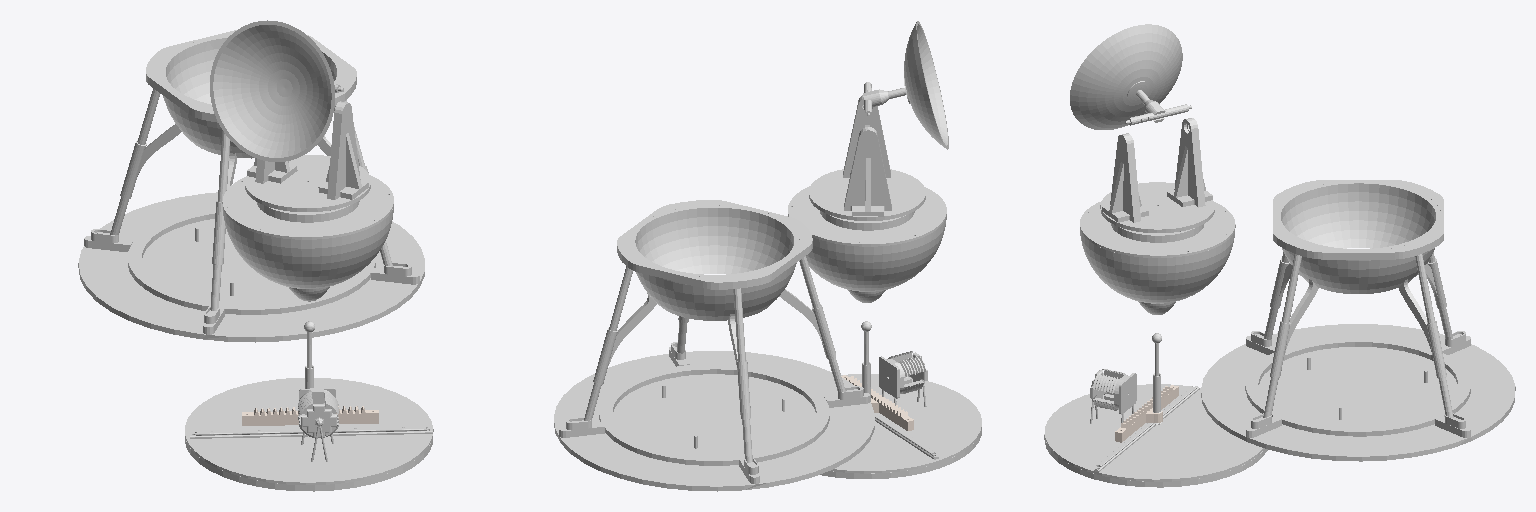
URDF robot description (1Total_Montaj.SLDASM):
<?xml version="1.0"?>
<!-- This URDF was automatically created by SolidWorks to URDF Exporter! Originally created by Stephen Brawner (brawner@gmail.com) 
     Commit Version: 1.6.0-4-g7f85cfe  Build Version: 1.6.7995.38578
     For more information, please see http://wiki.ros.org/sw_urdf_exporter -->
<robot
  name="1Total_Montaj.SLDASM">
  <link
    name="base_link">
    <inertial>
      <origin
        xyz="-0.384263432856868 -0.520576176427058 1.37139420875783"
        rpy="0 0 0" />
      <mass
        value="5.14385108561683" />
      <inertia
        ixx="0.0961611603907227"
        ixy="-0.00105476592593228"
        ixz="0.00121747728528588"
        iyy="0.182876997699365"
        iyz="0.00105477375679961"
        izz="0.0961611342193083" />
    </inertial>
    <visual>
      <origin
        xyz="0 0 0"
        rpy="0 0 0" />
      <geometry>
        <mesh scale="0.78 0.78 0.78"
        filename="model://stewart/meshes/base_link.STL" />
      </geometry>
      <material
        name="">
        <color
          rgba="0.894117647058823 0.894117647058823 0.894117647058823 1" />
      </material>
    </visual>
    <collision>
      <origin
        xyz="0 0 0"
        rpy="0 0 0" />
      <geometry>
        <mesh scale="0.78 0.78 0.78"
        filename="model://stewart/meshes/base_link.STL" />
      </geometry>
    </collision>
  </link>
  <link
    name="alt_planet_link">
    <inertial>
      <origin
        xyz="0.00302862492426265 0.00855094740142293 0.00988938605803313"
        rpy="0 0 0" />
      <mass
        value="1.10295847817781" />
      <inertia
        ixx="0.013834423479749"
        ixy="5.45522156423911E-05"
        ixz="-6.08606975317606E-07"
        iyy="0.0139127881607208"
        iyz="-9.35442145927238E-07"
        izz="0.0276482934977614" />
    </inertial>
    <visual>
      <origin
        xyz="0 0 0"
        rpy="0 0 0" />
      <geometry>
        <mesh scale="0.78 0.78 0.78"
        filename="model://stewart/meshes/alt_planet_link.STL" />
      </geometry>
      <material
        name="">
        <color
          rgba="0.894117647058823 0.894117647058823 0.894117647058823 1" />
      </material>
    </visual>
    <collision>
      <origin
        xyz="0 0 0"
        rpy="0 0 0" />
      <geometry>
        <mesh scale="0.78 0.78 0.78"
        filename="model://stewart/meshes/alt_planet_link.STL" />
      </geometry>
    </collision>
  </link>
  <joint
    name="alt_planet"
    type="continuous">
    <origin
      xyz="-0.38395 -1.3715 -0.59834"
      rpy="0 0 3.1416" />
    <parent
      link="base_link" />
    <child
      link="alt_planet_link" />
    <axis
      xyz="0 0 1" />
    <limit
      effort="100"
      velocity="6.2832" />
  </joint>
  <link
    name="kremayer_link">
    <inertial>
      <origin
        xyz="0.0205768678508176 0.0163139103585974 0.000118061070183917"
        rpy="0 0 0" />
      <mass
        value="0.0925261436980043" />
      <inertia
        ixx="0.000376819711281366"
        ixy="-2.74832149029622E-07"
        ixz="-2.09555353275377E-08"
        iyy="0.000377174040580818"
        iyz="-1.32284629918081E-07"
        izz="9.24395268869694E-06" />
    </inertial>
    <visual>
      <origin
        xyz="0 0 0"
        rpy="0 0 0" />
      <geometry>
        <mesh scale="0.78 0.78 0.78"
        filename="model://stewart/meshes/kremayer_link.STL" />
      </geometry>
      <material
        name="">
        <color
          rgba="1 0.949019607843137 0.909803921568627 1" />
      </material>
    </visual>
    <collision>
      <origin
        xyz="0 0 0"
        rpy="0 0 0" />
      <geometry>
        <mesh scale="0.78 0.78 0.78"
        filename="model://stewart/meshes/kremayer_link.STL" />
      </geometry>
    </collision>
  </link>
  <joint
    name="kremayer"
    type="prismatic">
    <origin
      xyz="-0.00088089 0.00045231 0.02041"
      rpy="1.5708 0 1.0965" />
    <parent
      link="alt_planet_link" />
    <child
      link="kremayer_link" />
    <axis
      xyz="0 0 1" />
    <limit
      lower="-0.1"
      upper="0.1"
      effort="100"
      velocity="0.8" />
  </joint>
  <link
    name="teleskobikcubuk_dis_kisim">
    <inertial>
      <origin
        xyz="-3.17413810946299E-06 0.0504451577310505 -5.73822952054659E-06"
        rpy="0 0 0" />
      <mass
        value="0.00968415710017345" />
      <inertia
        ixx="9.30900935734481E-06"
        ixy="-7.87245830736501E-10"
        ixz="1.168149383609E-10"
        iyy="4.89686992444474E-07"
        iyz="-2.30066439175807E-09"
        izz="9.30914388119832E-06" />
    </inertial>
    <visual>
      <origin
        xyz="0 0 0"
        rpy="0 0 0" />
      <geometry>
        <mesh scale="0.78 0.78 0.78"
        filename="model://stewart/meshes/teleskobikcubuk_dis_kisim.STL" />
      </geometry>
      <material
        name="">
        <color
          rgba="0.894117647058823 0.894117647058823 0.894117647058823 1" />
      </material>
    </visual>
    <collision>
      <origin
        xyz="0 0 0"
        rpy="0 0 0" />
      <geometry>
        <mesh scale="0.78 0.78 0.78"
        filename="model://stewart/meshes/teleskobikcubuk_dis_kisim.STL" />
      </geometry>
    </collision>
  </link>
  <joint
    name="dis_cubuk"
    type="fixed">
    <origin
      xyz="0 0 0"
      rpy="0 0.18022 0" />
    <parent
      link="kremayer_link" />
    <child
      link="teleskobikcubuk_dis_kisim" />
  </joint>
  <link
    name="teleskobik_cubuk_ic_kisim_link">
    <inertial>
      <origin
        xyz="5.55111512312578E-17 -4.44089209850063E-16 0.0108548965975316"
        rpy="0 0 0" />
      <mass
        value="0.00956342409102041" />
      <inertia
        ixx="1.60177638128422E-05"
        ixy="1.70348296901627E-23"
        ixz="2.12386194005695E-20"
        iyy="1.60177638128422E-05"
        iyz="-9.29602764732343E-21"
        izz="2.16425017158159E-07" />
    </inertial>
    <visual>
      <origin
        xyz="0 0 0"
        rpy="0 0 0" />
      <geometry>
        <mesh scale="0.78 0.78 0.78"
        filename="model://stewart/meshes/teleskobik_cubuk_ic_kisim_link.STL" />
      </geometry>
      <material
        name="">
        <color
          rgba="0.894117647058823 0.894117647058823 0.894117647058823 1" />
      </material>
    </visual>
    <collision>
      <origin
        xyz="0 0 0"
        rpy="0 0 0" />
      <geometry>
        <mesh scale="0.78 0.78 0.78"
        filename="model://stewart/meshes/teleskobik_cubuk_ic_kisim_link.STL" />
      </geometry>
    </collision>
  </link>
  <joint
    name="teleskobik_cubuk_ic_kisim"
    type="prismatic">
    <origin
      xyz="0 0.10294 0"
      rpy="-1.5708 -1.2767 0" />
    <parent
      link="teleskobikcubuk_dis_kisim" />
    <child
      link="teleskobik_cubuk_ic_kisim_link" />
    <axis
      xyz="0 0 1" />
    <limit
      lower="0"
      upper="0.02173"
      effort="100"
      velocity="0.8" />
  </joint>
  <link
    name="yarim_kure_link">
    <inertial>
      <origin
        xyz="-0.000641442326537345 -0.0572620187776818 4.04069846480226E-05"
        rpy="0 0 0" />
      <mass
        value="1.97192076149906" />
      <inertia
        ixx="0.0157891764203067"
        ixy="9.82686181796605E-05"
        ixz="1.61826351412035E-08"
        iyy="0.0246214099388652"
        iyz="-5.68628376683597E-06"
        izz="0.0157880547355324" />
    </inertial>
    <visual>
      <origin
        xyz="0 0 0"
        rpy="0 0 0" />
      <geometry>
        <mesh scale="0.78 0.78 0.78"
        filename="model://stewart/meshes/yarim_kure_link.STL" />
      </geometry>
      <material
        name="">
        <color
          rgba="0.894117647058823 0.894117647058823 0.894117647058823 1" />
      </material>
    </visual>
    <collision>
      <origin
        xyz="0 0 0"
        rpy="0 0 0" />
      <geometry>
        <mesh scale="0.78 0.78 0.78"
        filename="model://stewart/meshes/yarim_kure_link.STL" />
      </geometry>
    </collision>
  </link>
  <link name="yarim_kure_pitch_link"/>

<joint name="yarim_kure_pitch" type="revolute">
  <origin xyz="0.001787 -0.00078652 0.22296" rpy="1.5708 0 -0.47429" />
  <parent link="teleskobik_cubuk_ic_kisim_link" />
  <child link="yarim_kure_pitch_link" />
  <axis xyz="0 1 0" />
  <limit lower="-0.5236" upper="0.5236" effort="100" velocity="1.0" />
</joint>

<joint name="yarim_kure_roll" type="revolute">
  <origin xyz="0 0 0" rpy="0 0 0" />
  <parent link="yarim_kure_pitch_link" />
  <child link="yarim_kure_link" />
  <axis xyz="1 0 0" />
  <limit lower="-0.5236" upper="0.5236" effort="100" velocity="1.0" />
</joint>
  <link
    name="ust_planet_link">
    <inertial>
      <origin
        xyz="-1.20817424953401E-08 -7.3639287778704E-08 0.0296167427915376"
        rpy="0 0 0" />
      <mass
        value="0.742022299744742" />
      <inertia
        ixx="0.00187650476520514"
        ixy="4.16009854023628E-05"
        ixz="9.70699757553428E-19"
        iyy="0.00190468536192432"
        iyz="-1.4865428224313E-19"
        izz="0.00209035256931615" />
    </inertial>
    <visual>
      <origin
        xyz="0 0 0"
        rpy="0 0 0" />
      <geometry>
        <mesh scale="0.78 0.78 0.78"
        filename="model://stewart/meshes/ust_planet_link.STL" />
      </geometry>
      <material
        name="">
        <color
          rgba="0.894117647058823 0.894117647058823 0.894117647058823 1" />
      </material>
    </visual>
    <collision>
      <origin
        xyz="0 0 0"
        rpy="0 0 0" />
      <geometry>
        <mesh scale="0.78 0.78 0.78"
        filename="model://stewart/meshes/ust_planet_link.STL" />
      </geometry>
    </collision>
  </link>
  <joint
    name="ust_planet"
    type="continuous">
    <origin
      xyz="0.00036751 0.032998 -2.1954E-05"
      rpy="1.582 1.5111 -3.1416" />
    <parent
      link="yarim_kure_link" />
    <child
      link="ust_planet_link" />
    <axis
      xyz="0 0 1" />
    <limit
      effort="100"
      velocity="6.28" />
  </joint>
  <link
    name="elevasyon_link">
    <inertial>
      <origin
        xyz="0.084812752044968 0.0215546160387948 8.37486633797901E-06"
        rpy="0 0 0" />
      <mass
        value="0.321494921440555" />
      <inertia
        ixx="0.00204474936424079"
        ixy="0.000232552195521209"
        ixz="-1.5351647118236E-11"
        iyy="0.00118880811675675"
        iyz="4.19248014820931E-12"
        izz="0.00109603843302534" />
    </inertial>
    <visual>
      <origin
        xyz="0 0 0"
        rpy="0 0 0" />
      <geometry>
        <mesh scale="0.78 0.78 0.78"
        filename="model://stewart/meshes/elevasyon_link.STL" />
      </geometry>
      <material
        name="">
        <color
          rgba="0.894117647058823 0.894117647058823 0.894117647058823 1" />
      </material>
    </visual>
    <collision>
      <origin
        xyz="0 0 0"
        rpy="0 0 0" />
      <geometry>
        <mesh scale="0.78 0.78 0.78"
        filename="model://stewart/meshes/elevasyon_link.STL" />
      </geometry>
    </collision>
  </link>
  <joint
    name="elevasyon"
    type="revolute">
    <origin
      xyz="0 0 0.15"
      rpy="1.5708 -0.0065019 -0.62211" />
    <parent
      link="ust_planet_link" />
    <child
      link="elevasyon_link" />
    <axis
      xyz="0 0 1" />
    <limit
      lower="0"
      upper="1.5708"
      effort="100"
      velocity="6.28" />
  </joint>
</robot>

--- Facts derived from the render (not from the file) ---
3 views of the same robot in one strip: view 1: azimuth 30°, elevation 25°; view 2: azimuth 150°, elevation 25°; view 3: azimuth 270°, elevation 25° (orthographic).
Model 1Total_Montaj.SLDASM with 9 links and 8 joints (3 revolute, 2 continuous, 2 prismatic, 1 fixed), rooted at base_link, posed all joints at 0.
Links seen in each view (by area): view 1: base_link, alt_planet_link, elevasyon_link, yarim_kure_link, ust_planet_link, kremayer_link; view 2: base_link, alt_planet_link, yarim_kure_link, ust_planet_link, elevasyon_link, kremayer_link; view 3: base_link, alt_planet_link, yarim_kure_link, elevasyon_link, ust_planet_link, kremayer_link.
Boxes of the visible links, bbox=[...] form: base_link: bbox=[78, 30, 424, 342]; alt_planet_link: bbox=[185, 378, 433, 491]; elevasyon_link: bbox=[210, 20, 343, 161]; yarim_kure_link: bbox=[222, 175, 393, 301]; ust_planet_link: bbox=[245, 101, 370, 211]; kremayer_link: bbox=[242, 406, 378, 425]; base_link: bbox=[554, 200, 874, 491]; alt_planet_link: bbox=[820, 351, 981, 478]; yarim_kure_link: bbox=[788, 186, 946, 302]; ust_planet_link: bbox=[809, 95, 925, 220]; elevasyon_link: bbox=[863, 21, 948, 149]; kremayer_link: bbox=[841, 375, 913, 430]; base_link: bbox=[1201, 180, 1515, 461]; alt_planet_link: bbox=[1044, 369, 1267, 487]; yarim_kure_link: bbox=[1080, 202, 1235, 314]; elevasyon_link: bbox=[1070, 24, 1191, 129]; ust_planet_link: bbox=[1100, 118, 1214, 232]; kremayer_link: bbox=[1115, 385, 1178, 442].
Bounding box of the posed robot: 0.4904 × 0.7073 × 0.6557 m (x, y, z).
Meshes: 8 distinct files referenced, 8 mesh visuals loaded (8 binary STL).
